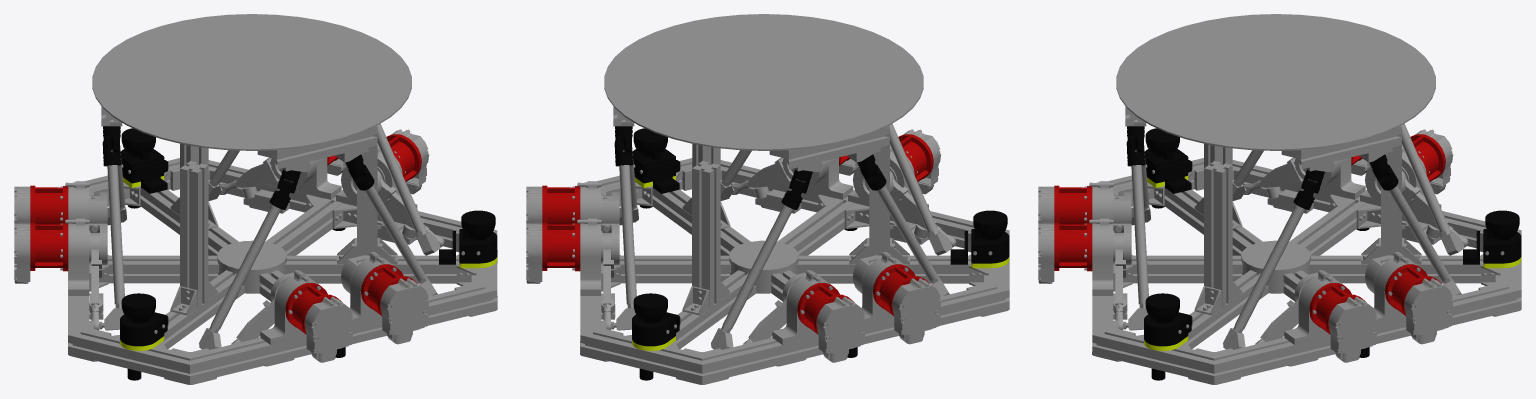
Rendered from Platform.FBX.
3 renders of one model, left to right at view 1: azimuth 30°, elevation 25°; view 2: azimuth 150°, elevation 25°; view 3: azimuth 270°, elevation 25°, orthographic.
Parts seen in each view (by area): view 1: Platform; view 2: Platform; view 3: Platform.
Boxes of the visible parts, box(x1,y1,x2,y2) form: Platform: box(14, 14, 497, 384); Platform: box(526, 14, 1009, 384); Platform: box(1038, 14, 1521, 384).
Size of the model in its own units: 1425 by 666 by 1389.
